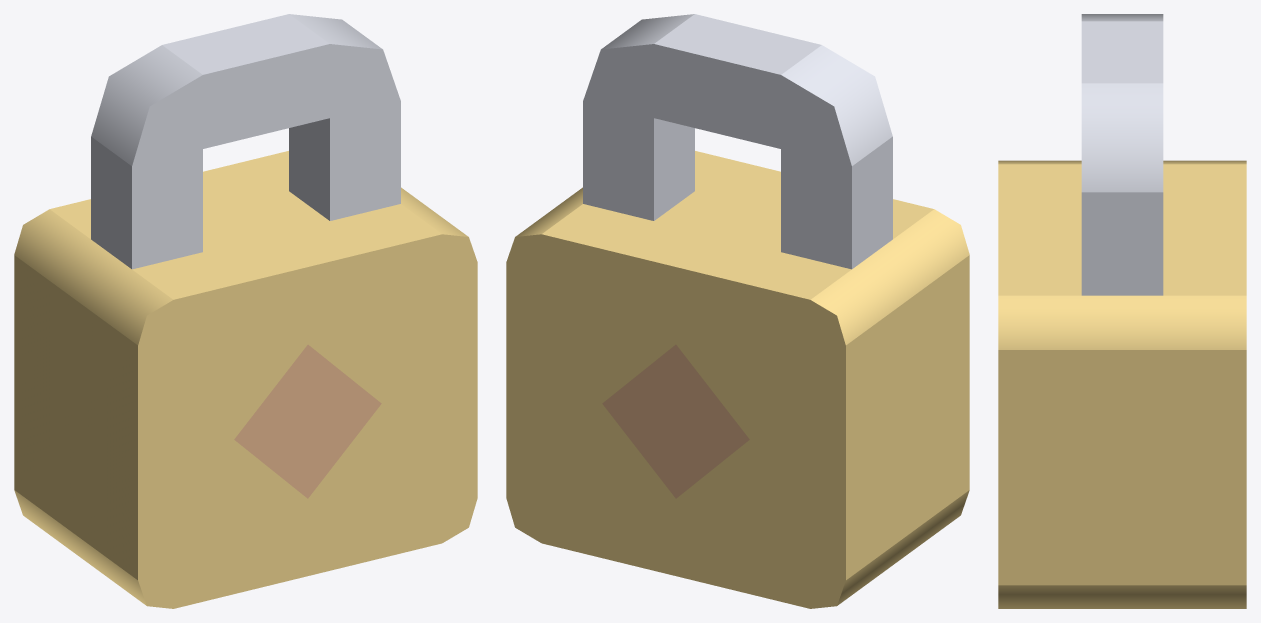
The picture shows the model from 3 angles, left to right: view 1: azimuth 30°, elevation 25°; view 2: azimuth 150°, elevation 25°; view 3: azimuth 270°, elevation 25°; orthographic projection.
Visible parts, largest first — view 1: lock; view 2: lock; view 3: lock.
Part boxes in pixels (bbox=[...]): lock: bbox=[14, 14, 477, 608]; lock: bbox=[506, 14, 969, 608]; lock: bbox=[998, 14, 1246, 608].
Size of the model in its own units: 0.2932 by 0.4012 by 0.1853.
